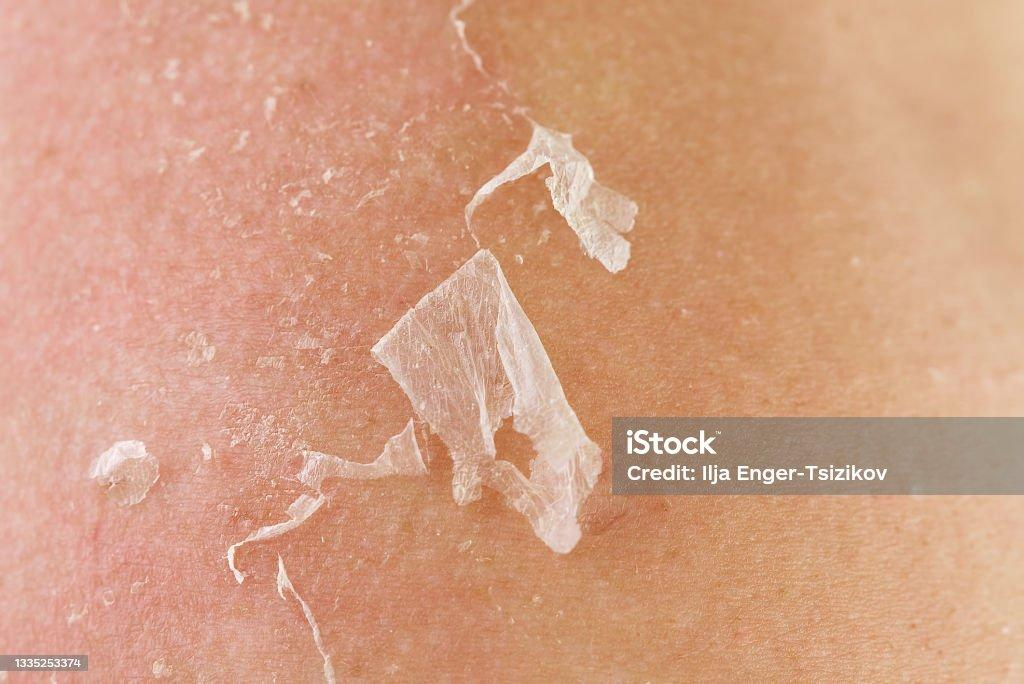Dry-Skin: (618, 98, 982, 315), (93, 207, 432, 425), (390, 112, 640, 358), (492, 413, 693, 672), (173, 0, 387, 218), (107, 463, 410, 585), (473, 27, 748, 142), (225, 478, 272, 508)
